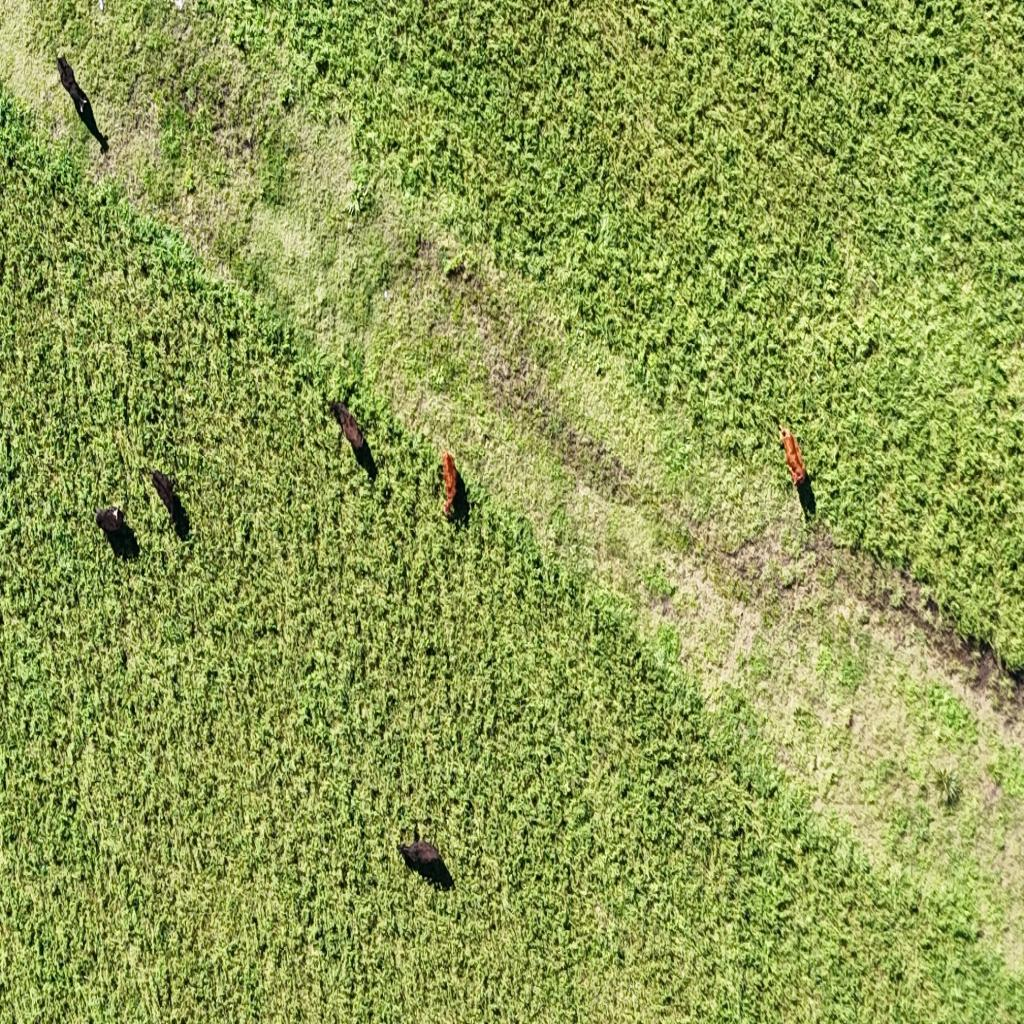cow: (396, 830, 456, 894), (149, 466, 187, 534), (55, 54, 93, 121), (329, 398, 367, 456), (780, 426, 807, 487), (94, 500, 129, 542), (439, 453, 459, 519)
